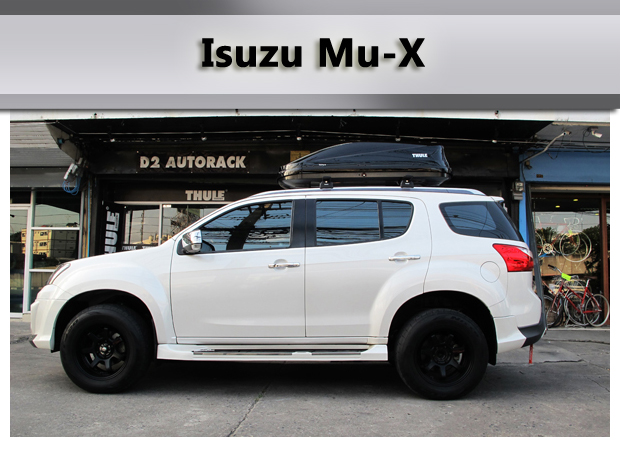pickup: (28, 182, 547, 402)
